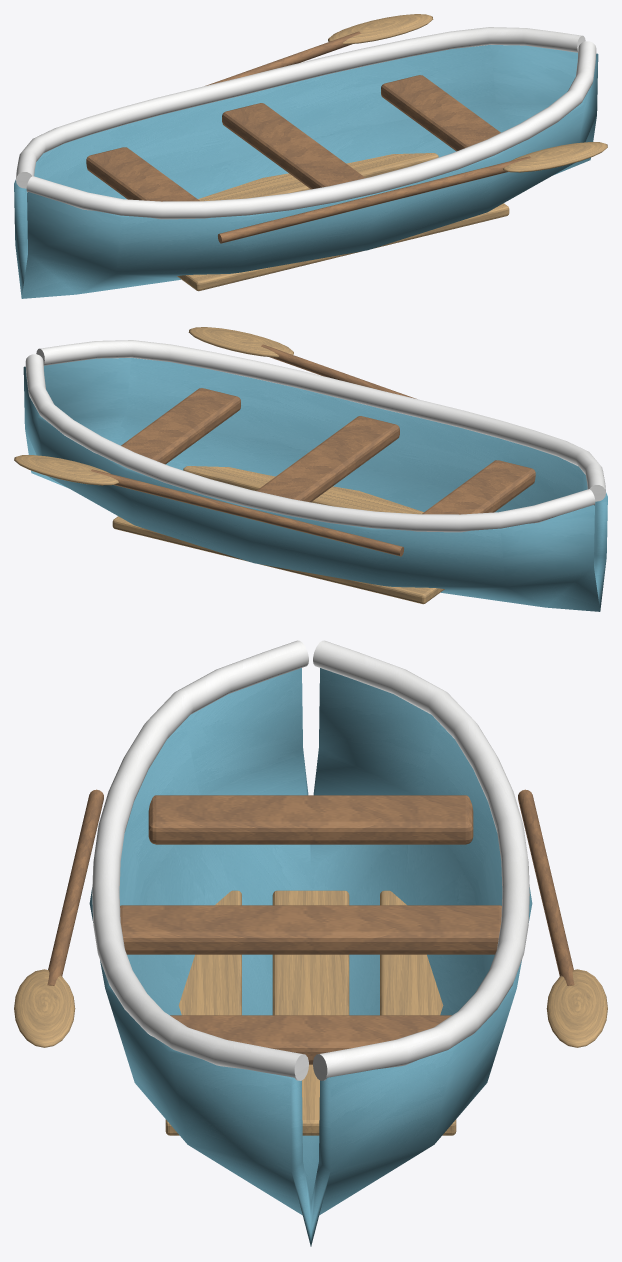
File: boat.glb
The picture shows the model from 3 angles, top to bottom: view 1: azimuth 30°, elevation 25°; view 2: azimuth 150°, elevation 25°; view 3: azimuth 270°, elevation 25°; orthographic projection. The views are drawn at different scales.
Parts seen in each view (by area): view 1: boat; view 2: boat; view 3: boat.
Part boxes in pixels (bbox=[...]): boat: bbox=[14, 14, 607, 298]; boat: bbox=[14, 327, 607, 611]; boat: bbox=[14, 640, 607, 1246].
Size of the model in its own units: 3.28 by 0.8088 by 1.94.
1 material, 1 textured.
